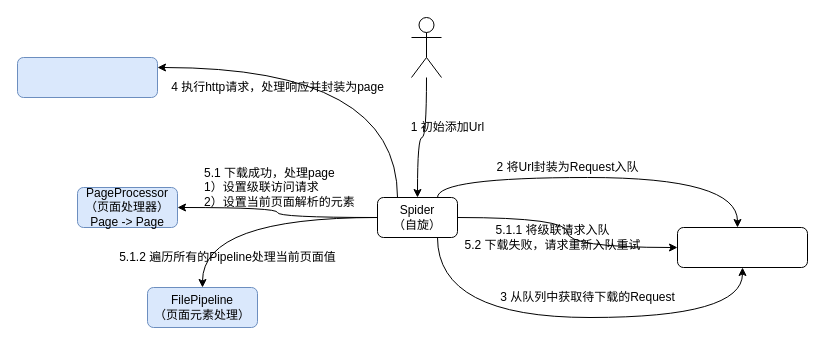
Image size: 825x345. Some labels were removed from this diagram. The centre of each missing label's shape, as x and y in pixels:
"HttpClientDownloader （下载请求处理器） Request -> Page" belongs at (x=87, y=77).
"QueueScheduler （阻塞队列） URL -> Request" belongs at (x=742, y=247).
